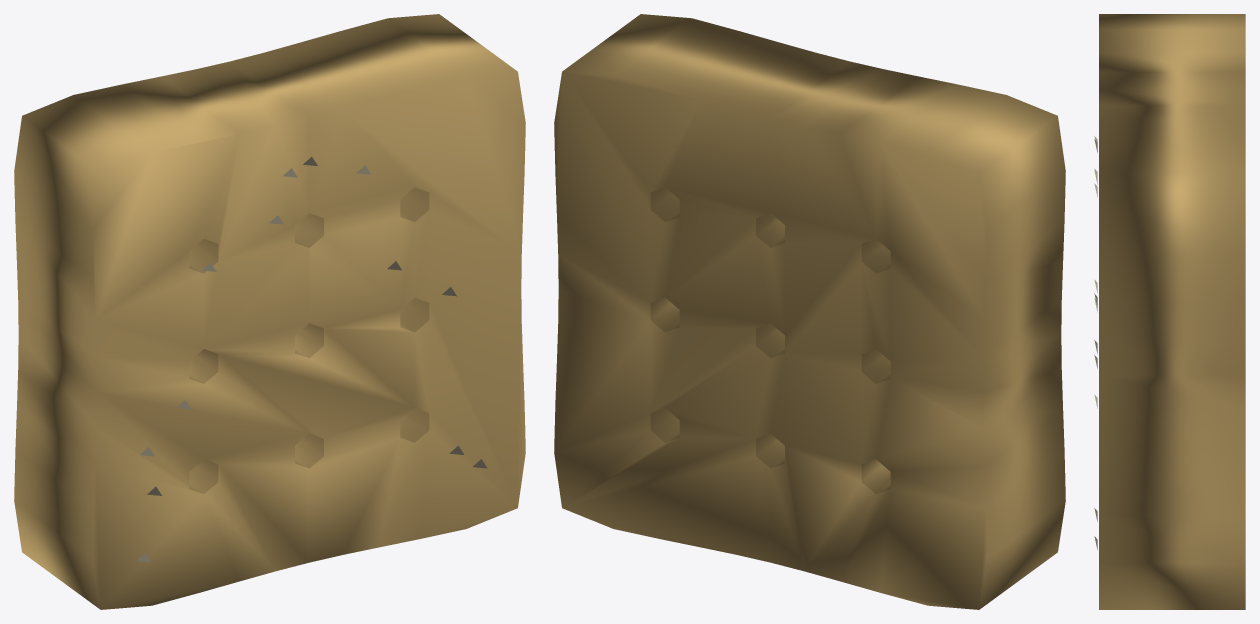
The model's file is snack_cracker.glb.
The picture shows the model from 3 angles, left to right: view 1: azimuth 30°, elevation 25°; view 2: azimuth 150°, elevation 25°; view 3: azimuth 270°, elevation 25°; orthographic projection. The views are drawn at different scales.
Parts seen in each view (by area): view 1: Scalloped square cracker; view 2: Scalloped square cracker; view 3: Scalloped square cracker.
Part boxes in pixels (box(x1,y1,x2,y2)): Scalloped square cracker: box(14, 14, 525, 609); Scalloped square cracker: box(554, 14, 1065, 609); Scalloped square cracker: box(1094, 14, 1245, 609).
Bounding box in the file's own units: 0.6985 × 0.6985 × 0.227.
